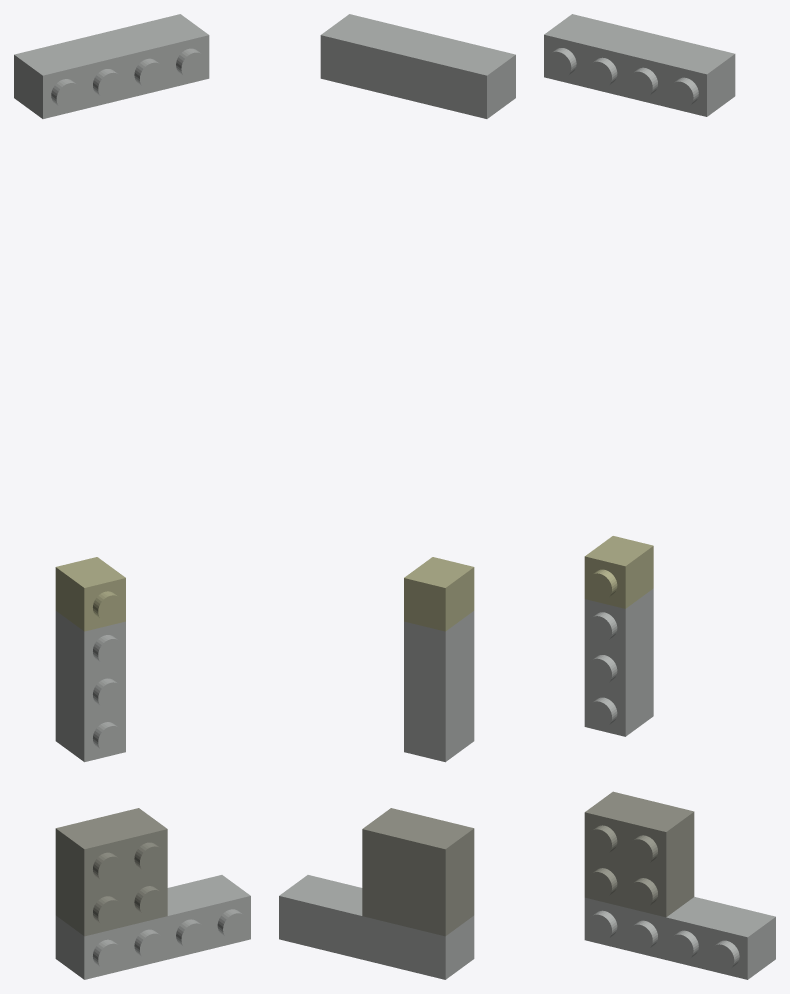
The model's file is current.glb.
The picture shows the model from 3 angles, left to right: view 1: azimuth 30°, elevation 25°; view 2: azimuth 150°, elevation 25°; view 3: azimuth 330°, elevation 25°; orthographic projection. The views are drawn at different scales.
Visible parts, largest first — view 1: world; view 2: world; view 3: world.
Part boxes in pixels (bbox=[...]): world: bbox=[14, 14, 250, 979]; world: bbox=[279, 14, 515, 979]; world: bbox=[544, 14, 775, 979].
Size of the model in its own units: 40 by 168 by 11.4.
